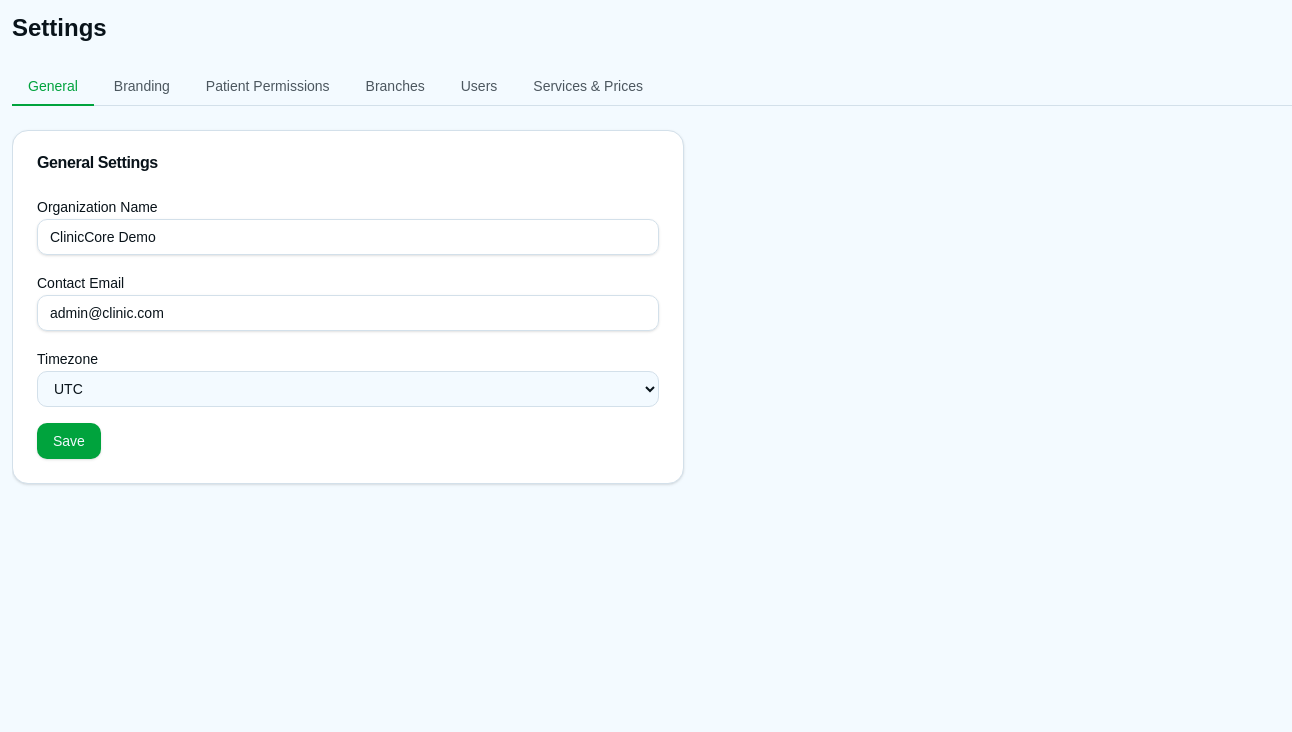
Test: SettingsPage › Save button shows success message
This screenshot has width=1292, height=732.
Expected: the field labelled "Organization Name" is shown, 37,219 -> 659,255
Click the button "Save" at coordinates (69, 441), box 37,423 -> 101,459
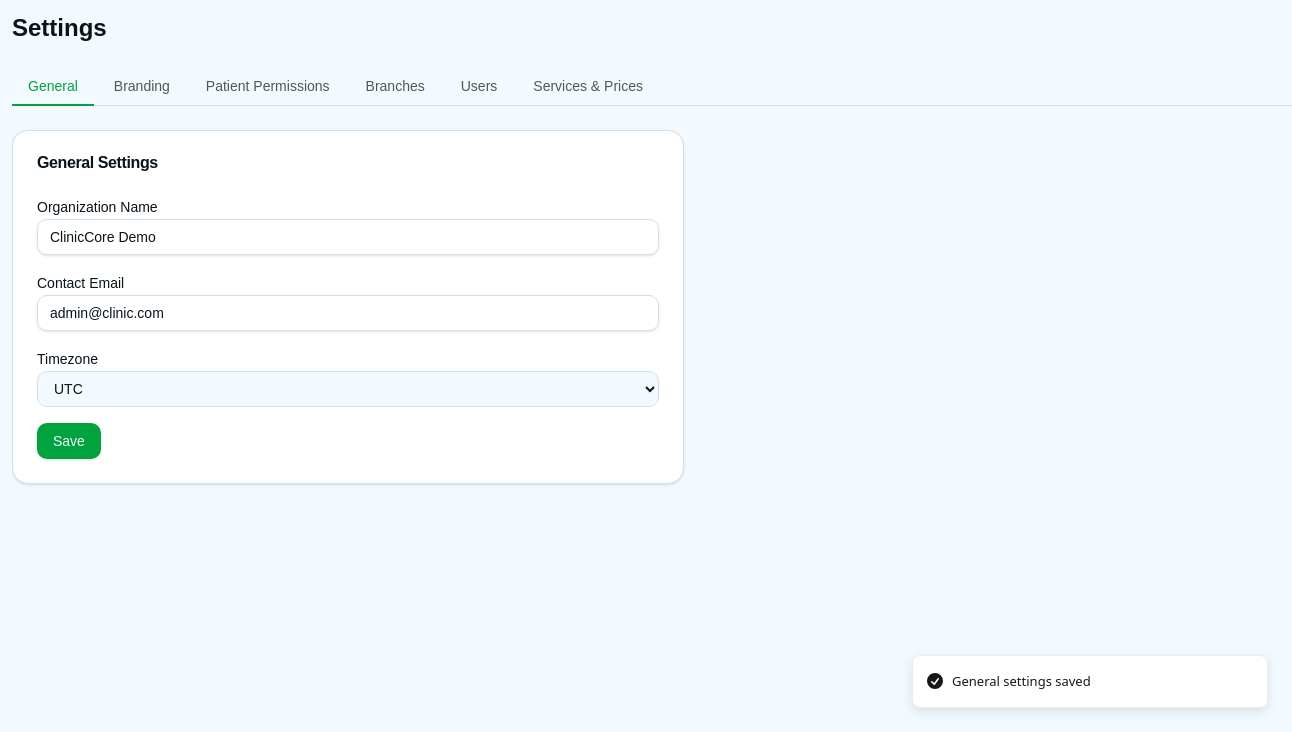
Result: the text "General settings saved" is shown at 952,672 -> 1091,691
